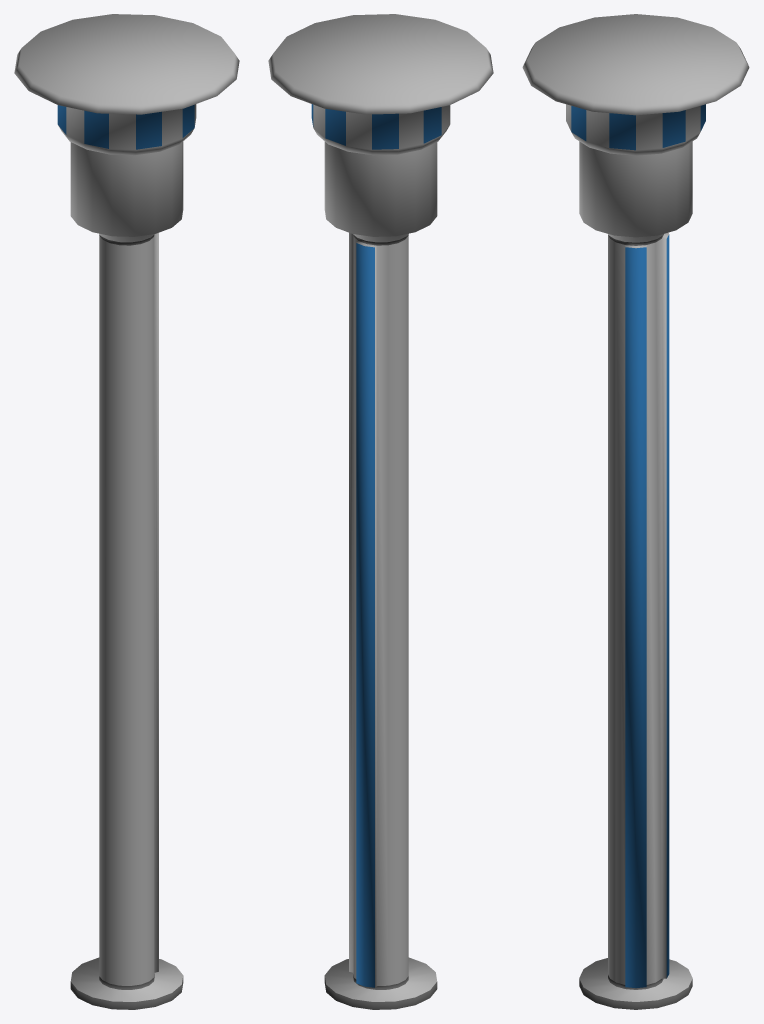
The model's file is Fence_Corner_Pole.fbx.
3 views of the same model, side by side, from view 1: azimuth 30°, elevation 25°; view 2: azimuth 150°, elevation 25°; view 3: azimuth 270°, elevation 25° (orthographic).
Visible parts, largest first — view 1: Fence_Corner_Pole; view 2: Fence_Corner_Pole; view 3: Fence_Corner_Pole.
Part boxes in pixels (x1,y1,x2,y2): Fence_Corner_Pole: (14,14,239,1009); Fence_Corner_Pole: (268,14,493,1009); Fence_Corner_Pole: (522,14,749,1009).
Size of the model in its own units: 40 by 180 by 40.
